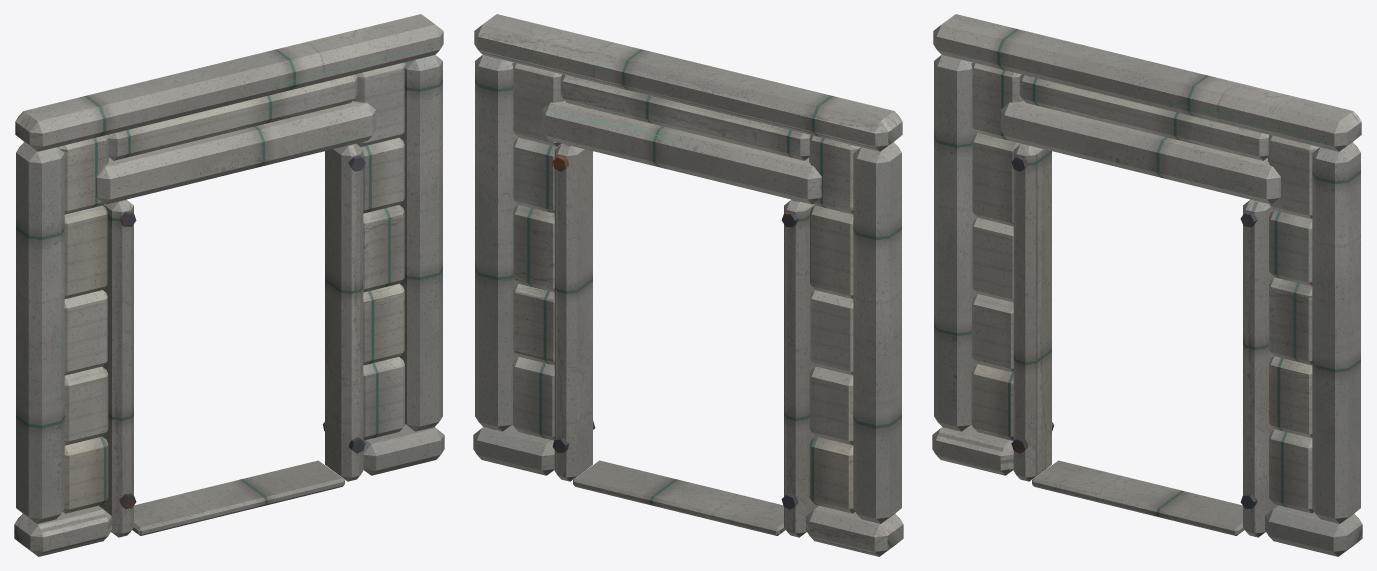
The model's file is kapi_kasasi.glb.
3 views of the same model, side by side, from view 1: azimuth 30°, elevation 25°; view 2: azimuth 150°, elevation 25°; view 3: azimuth 330°, elevation 25° (orthographic).
Parts seen in each view (by area): view 1: kapi_kasasi; view 2: kapi_kasasi; view 3: kapi_kasasi.
Boxes of the visible parts, x1,y1,x2,y2 form: kapi_kasasi: (14, 14, 444, 556); kapi_kasasi: (473, 14, 903, 556); kapi_kasasi: (932, 14, 1362, 556).
Bounding box in the file's own units: 3 × 3.01 × 0.37.
1 material, 1 textured.
